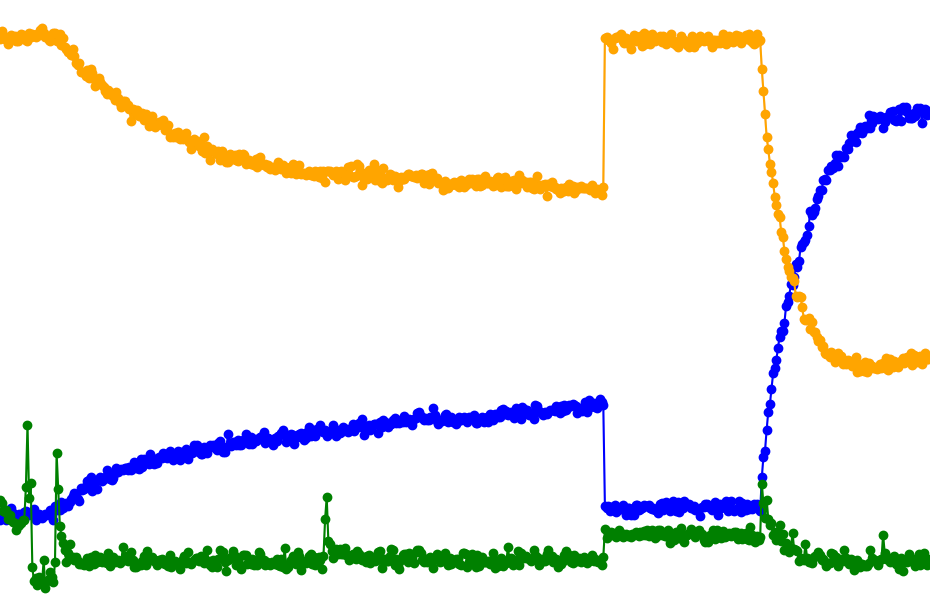Condensation (CO2): (77, 0, 155, 616), (155, 0, 232, 616)
Condensation (O2): (659, 0, 776, 616), (582, 0, 659, 616)
High CO2: (776, 0, 930, 616)
High O2: (310, 0, 659, 616), (776, 0, 930, 616), (659, 0, 776, 616)
Low CO2: (310, 0, 659, 616), (659, 0, 776, 616), (582, 0, 659, 616)
Low O2: (659, 0, 930, 616), (776, 0, 930, 616)
Normal: (77, 0, 659, 616), (310, 0, 659, 616), (310, 0, 621, 616), (310, 0, 582, 616), (659, 0, 930, 616), (77, 0, 310, 616), (0, 0, 155, 616), (77, 0, 232, 616), (155, 0, 310, 616), (776, 0, 930, 616), (659, 0, 776, 616), (77, 0, 155, 616), (232, 0, 310, 616), (659, 0, 737, 616), (0, 0, 77, 616)
O2 Problem: (776, 0, 930, 616), (659, 0, 776, 616)
